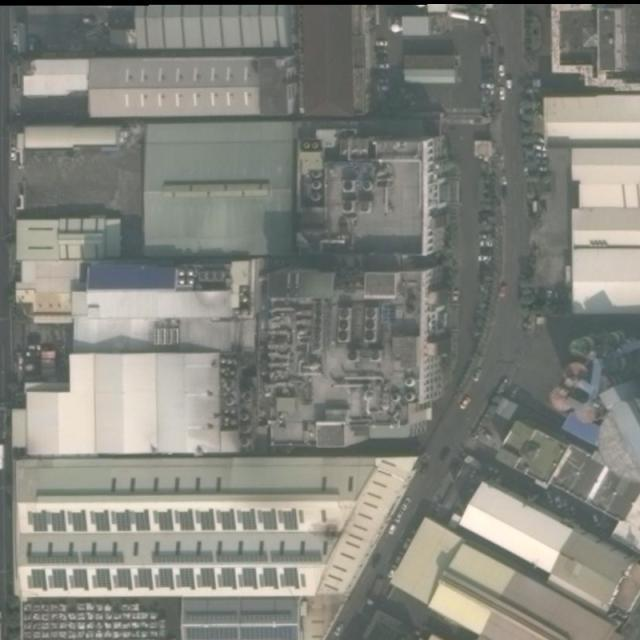vehicle: (458, 396, 471, 410), (334, 622, 345, 637), (476, 253, 493, 262), (505, 78, 514, 93), (399, 498, 410, 510), (394, 510, 403, 524), (439, 447, 448, 461), (479, 82, 494, 90), (498, 86, 506, 101), (479, 239, 494, 247), (389, 522, 397, 536), (374, 83, 389, 90), (478, 232, 493, 239), (498, 63, 506, 76), (532, 142, 545, 150), (375, 62, 389, 69), (374, 39, 386, 47), (534, 150, 546, 158), (419, 462, 427, 474), (375, 77, 390, 83), (533, 133, 543, 142), (473, 368, 479, 382), (1, 612, 2, 640)
